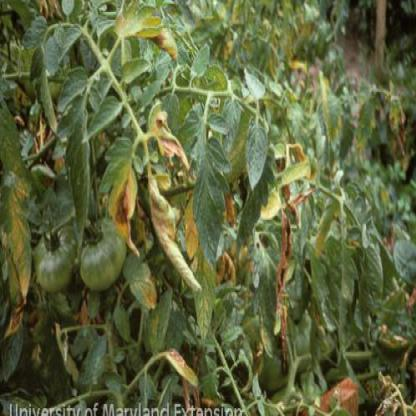Tomato Early blight leaf: (145, 167, 203, 289), (1, 173, 33, 333), (107, 133, 140, 253), (117, 4, 183, 61), (147, 105, 195, 168), (29, 39, 58, 135)
Tomato leaf: (60, 103, 92, 240), (192, 136, 225, 263), (246, 116, 266, 191)
